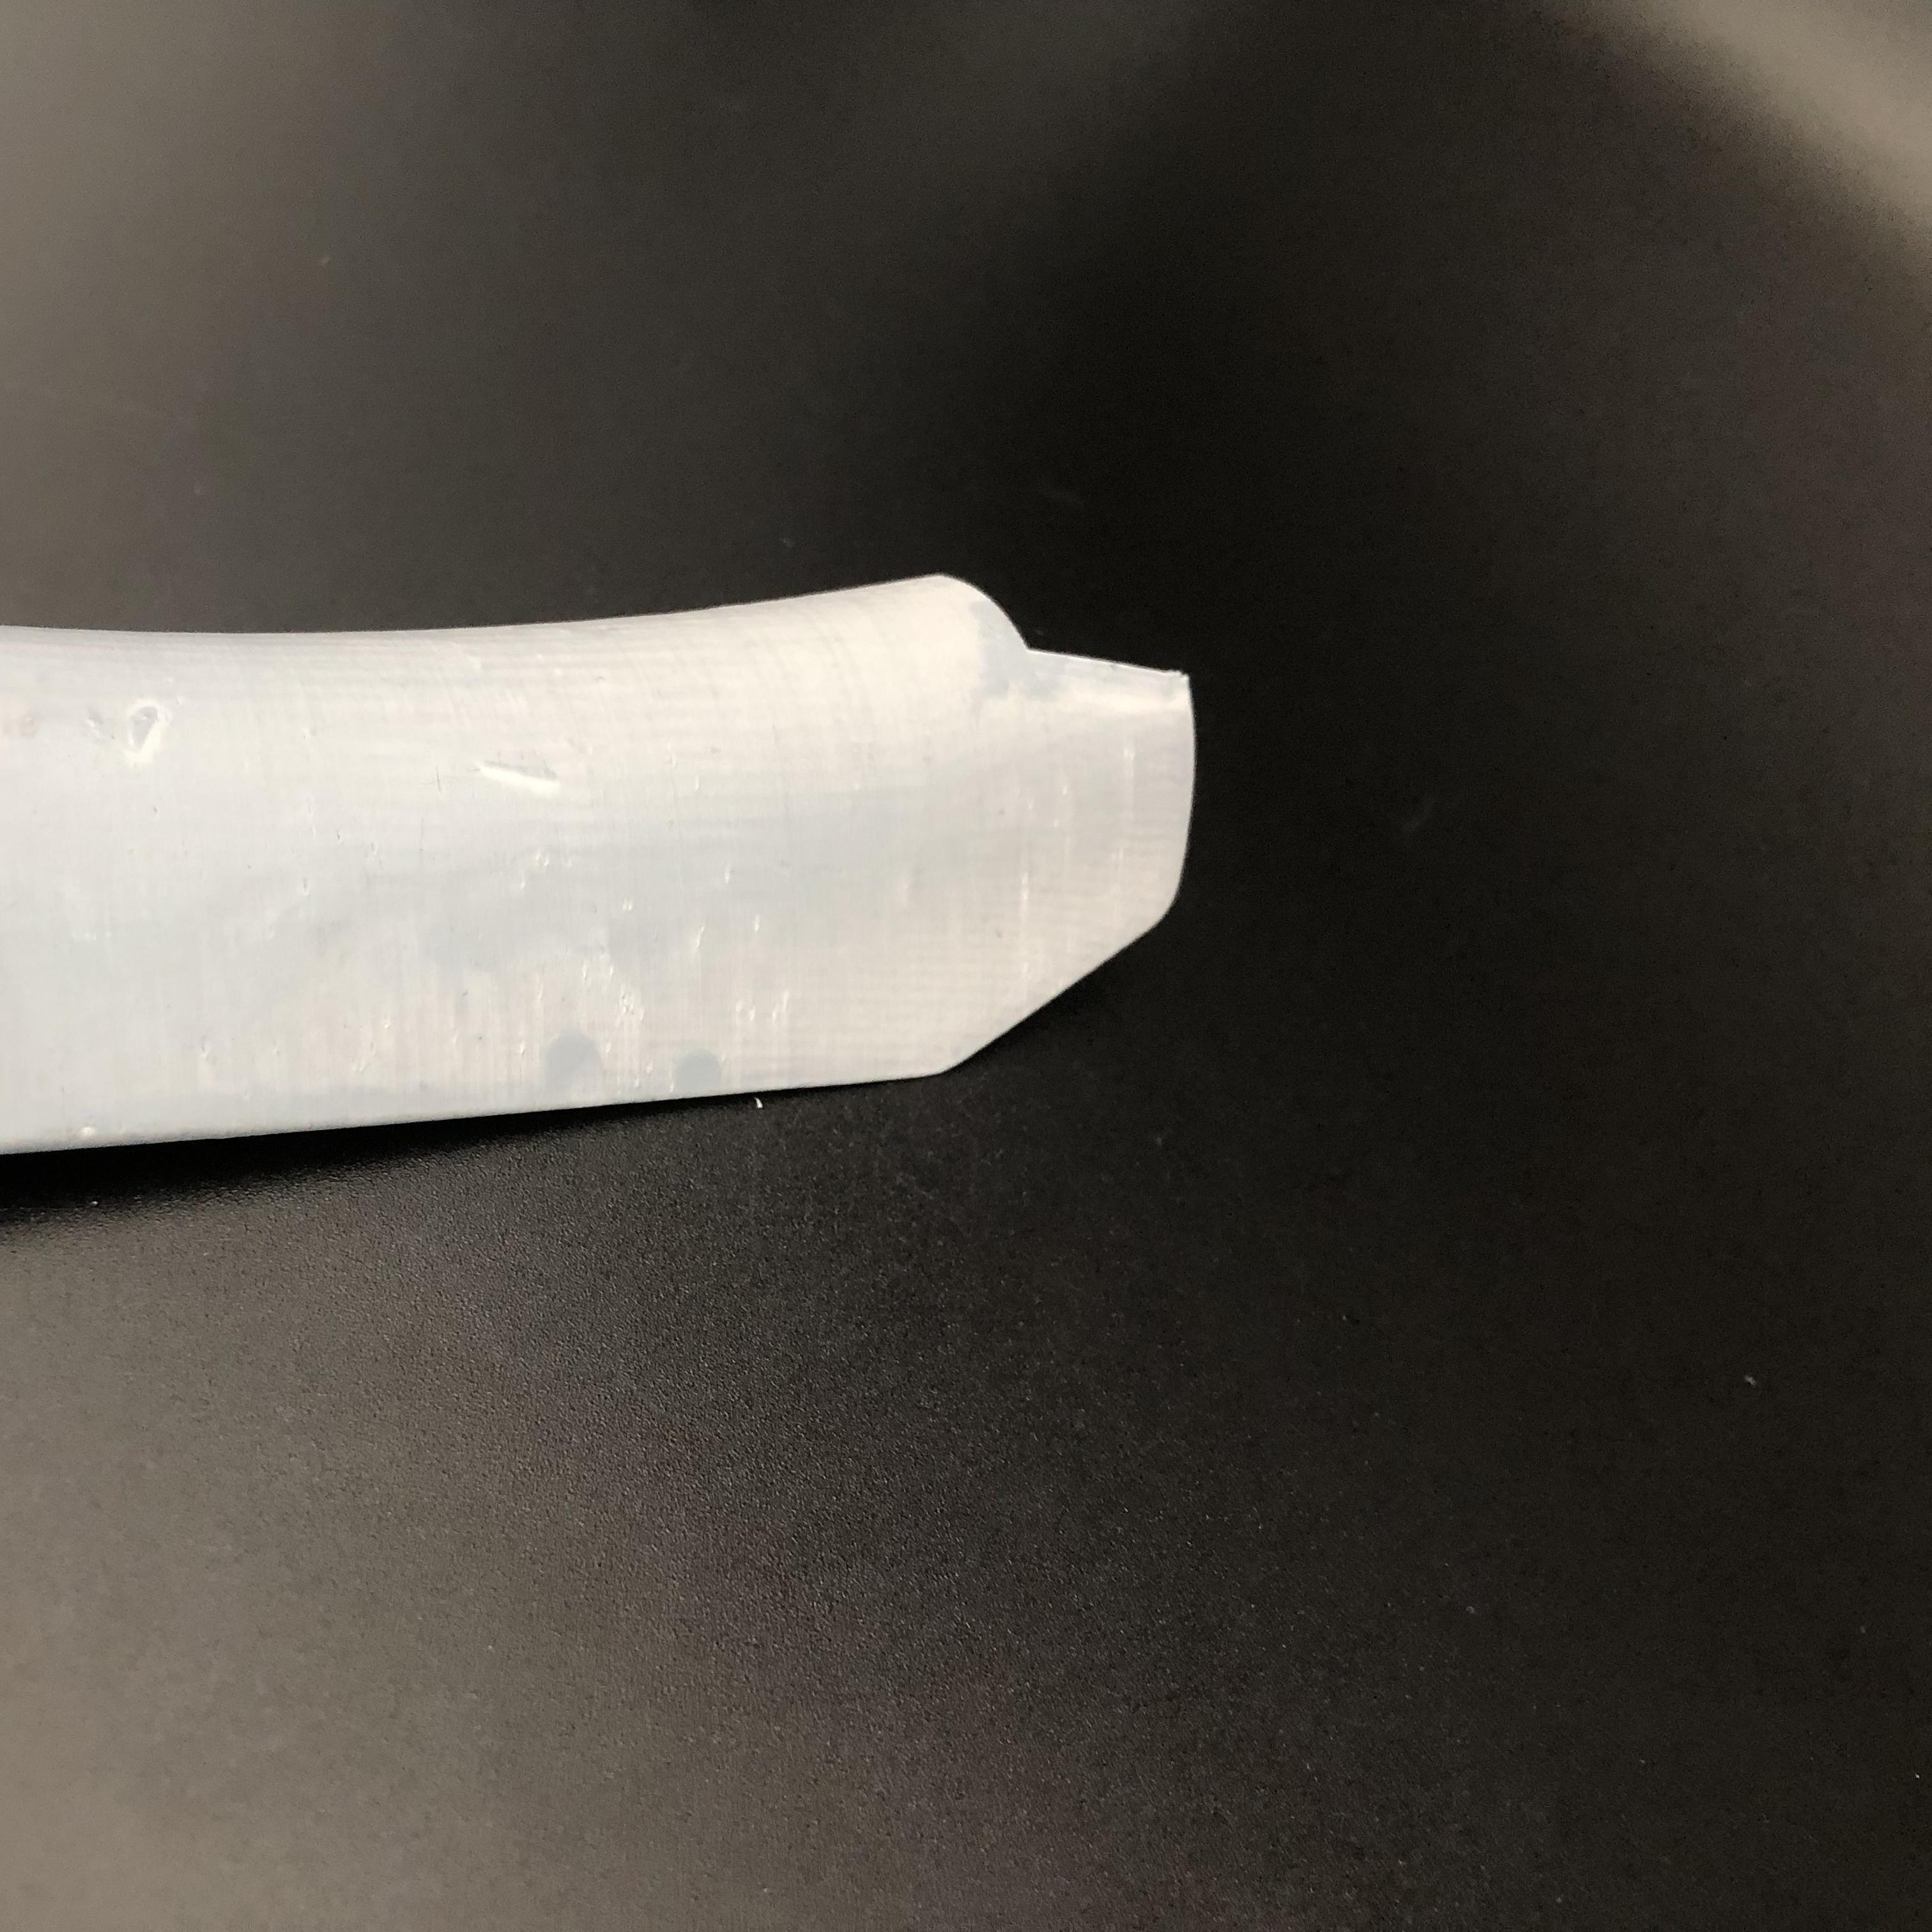fracture: (916, 557, 1191, 676)
